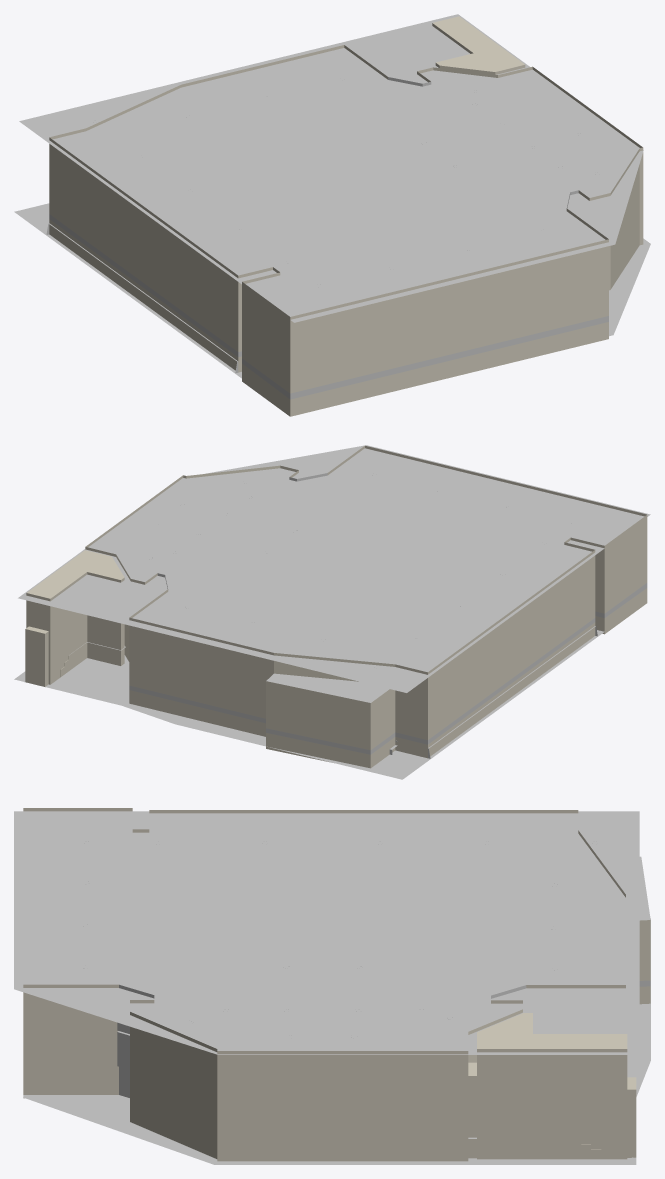
The model's file is Default 3-Stage.fbx.
3 views of the same model, one above another, from view 1: azimuth 30°, elevation 25°; view 2: azimuth 150°, elevation 25°; view 3: azimuth 270°, elevation 25° (orthographic). The views are drawn at different scales.
Parts seen in each view (by area): view 1: Circle.033; view 2: Circle.033; view 3: Circle.033.
Boxes of the visible parts, x1=… form: Circle.033: x1=14, y1=14, x2=650, y2=416; Circle.033: x1=14, y1=445, x2=650, y2=779; Circle.033: x1=14, y1=808, x2=650, y2=1164.
Bounding box in the file's own units: 1154 × 248 × 1259.
